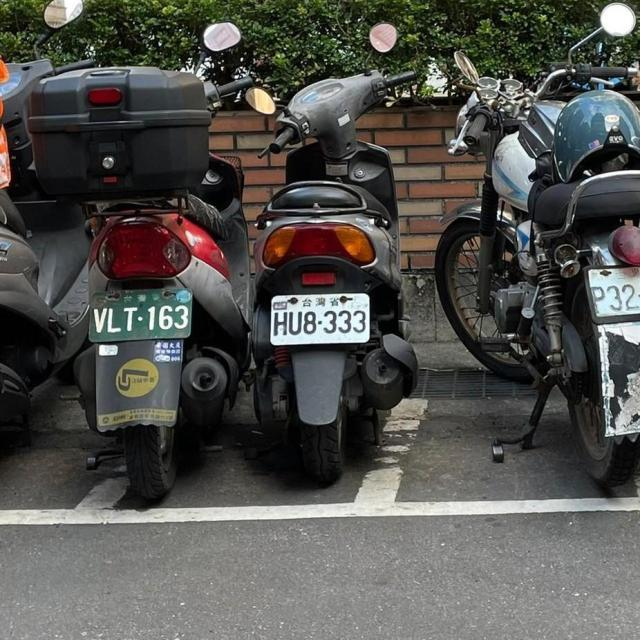GW: (83, 286, 199, 345)
W: (266, 290, 378, 348), (582, 262, 640, 320)
